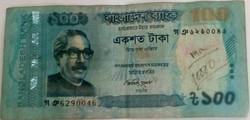100 taka: (8, 8, 248, 117)
